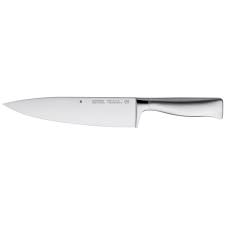knife: (2, 86, 225, 127)
